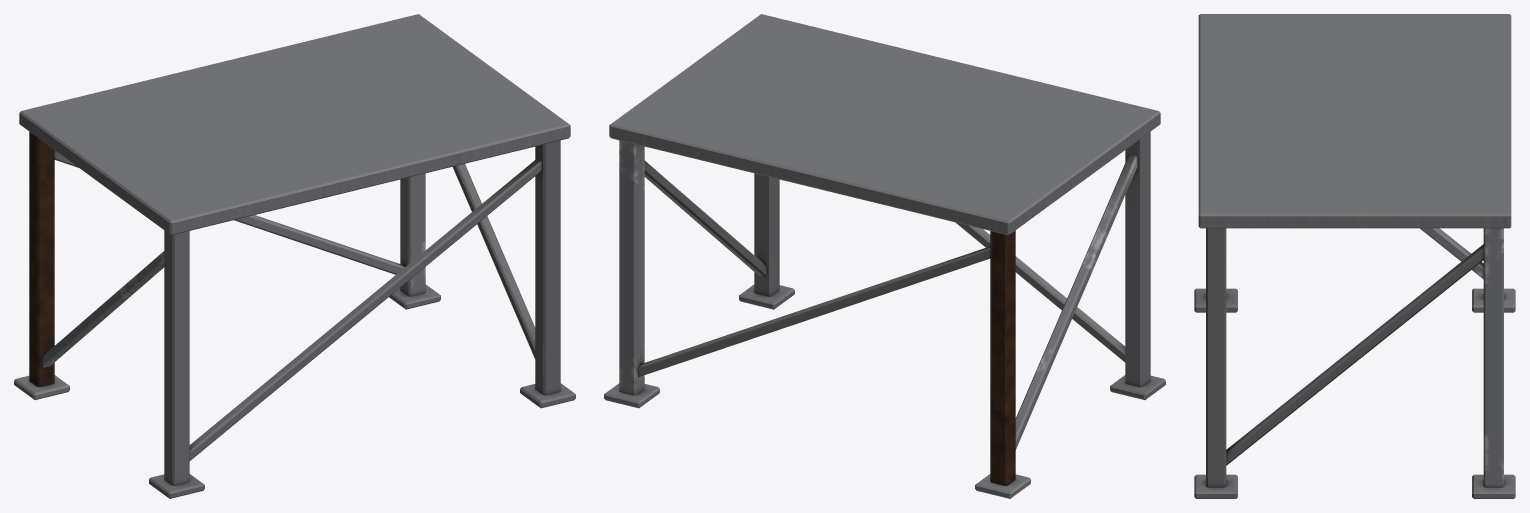
Rendered from nodexeus-set-frame.glb.
3 views of the same model, side by side, from view 1: azimuth 30°, elevation 25°; view 2: azimuth 150°, elevation 25°; view 3: azimuth 270°, elevation 25° (orthographic). The views are drawn at different scales.
Visible parts, largest first — view 1: set-frame; view 2: set-frame; view 3: set-frame.
Part boxes in pixels (box(x1,y1,x2,y2)): set-frame: box(14, 14, 575, 498); set-frame: box(604, 14, 1165, 498); set-frame: box(1194, 14, 1515, 498).
Size of the model in its own units: 3.56 by 2.3 by 2.36.
Materials: 1 (1 with a texture image).
